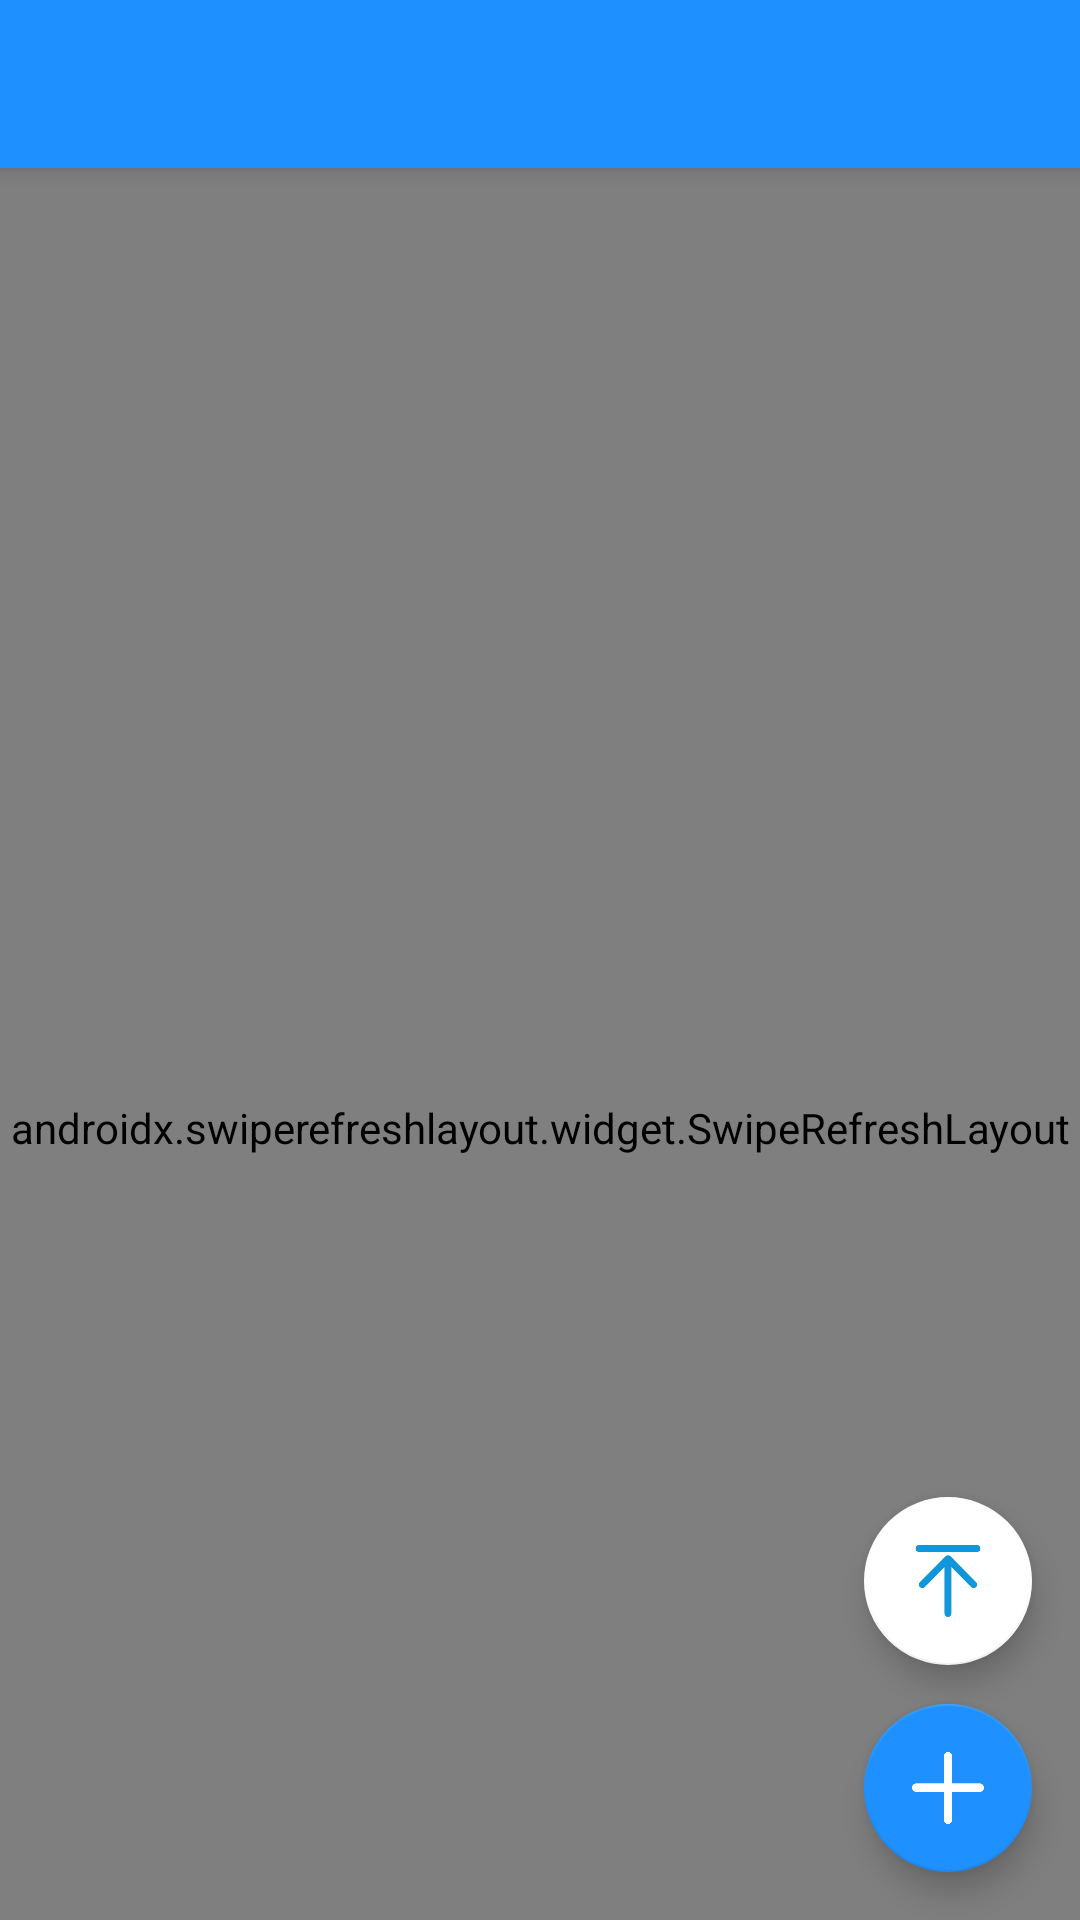

Screen size 1080w x 1920h. Icon name, then its box in pixels as (x1, y1, x2, y2):
jia: (864, 1704, 1032, 1872)
